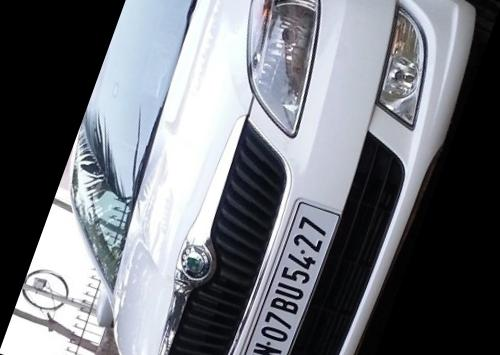plate: (225, 177, 360, 355)
